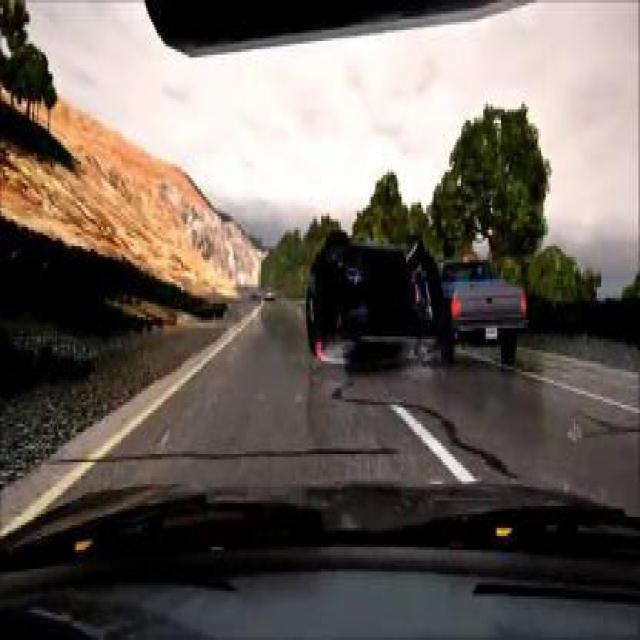accident: (303, 231, 531, 382)
